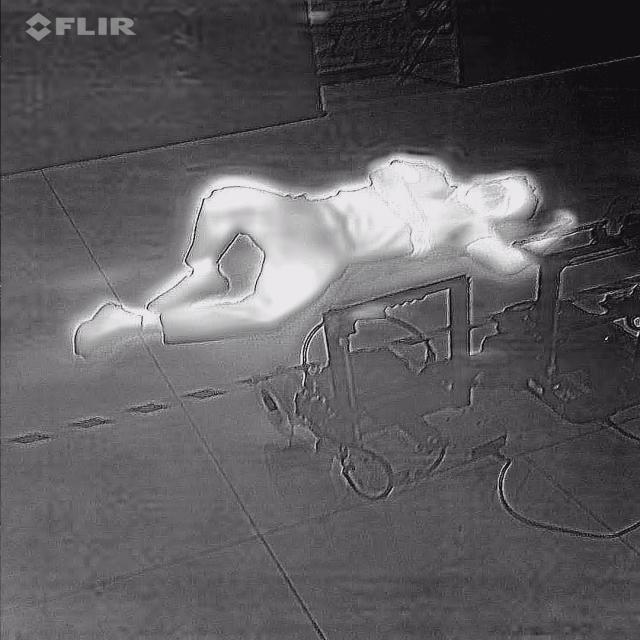Victim: (64, 149, 580, 365)
